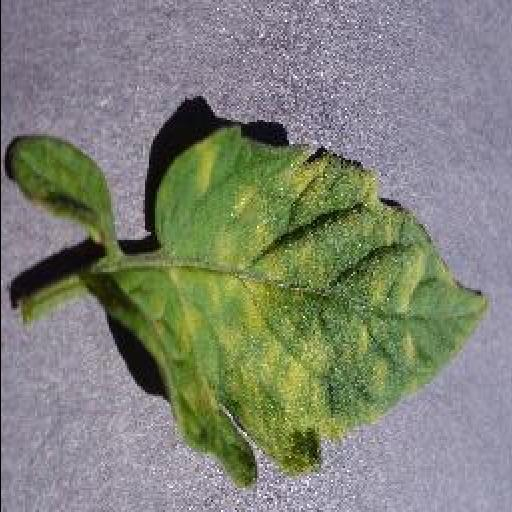disease_tomato: (90, 124, 490, 486)
